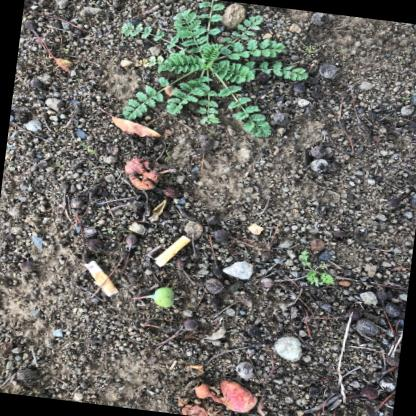Paper: (83, 260, 118, 296), (154, 235, 190, 266)
